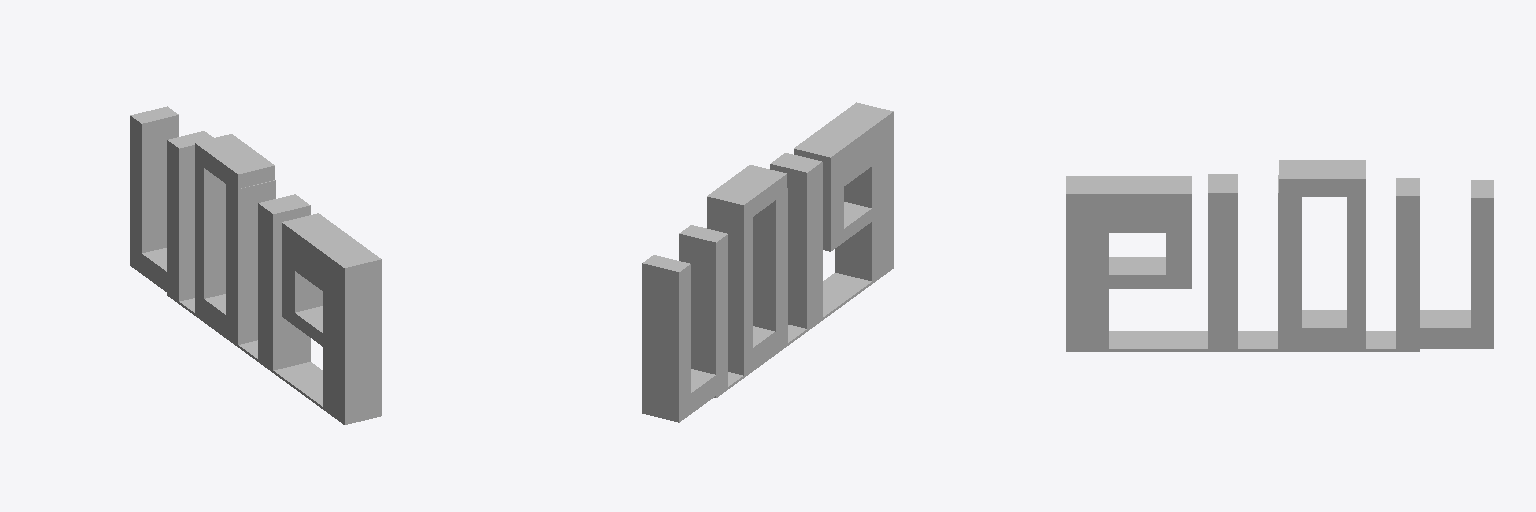
File: piou.obj
3 renders of one model, left to right at view 1: azimuth 30°, elevation 25°; view 2: azimuth 150°, elevation 25°; view 3: azimuth 270°, elevation 25°, orthographic.
Parts seen in each view (by area): view 1: Cube; view 2: Cube; view 3: Cube.
Part boxes in pixels (left/top/right/bottom): Cube: left=130, top=106, right=381, bottom=424; Cube: left=642, top=102, right=893, bottom=422; Cube: left=1066, top=160, right=1493, bottom=351.
Size of the model in its own units: 2 by 8.89 by 19.98.